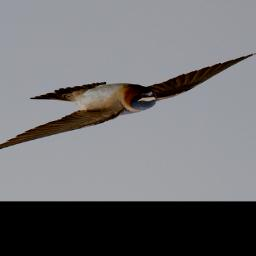Swallow: (0, 54, 256, 158)
